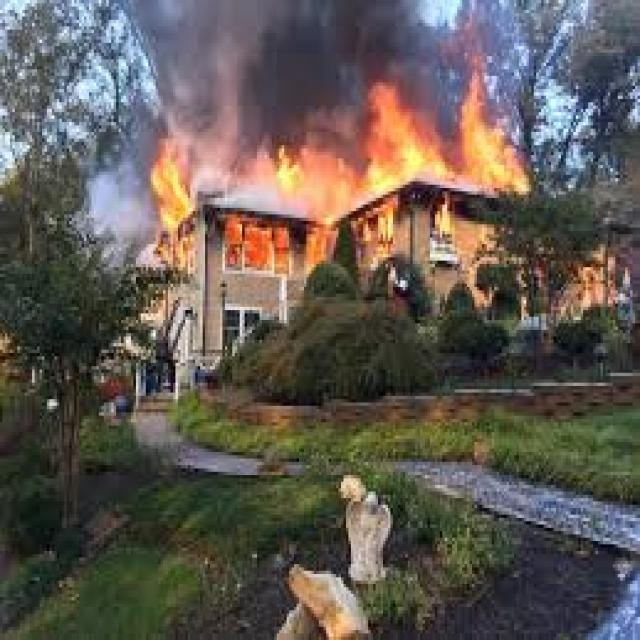Smoke: (183, 0, 422, 93)
